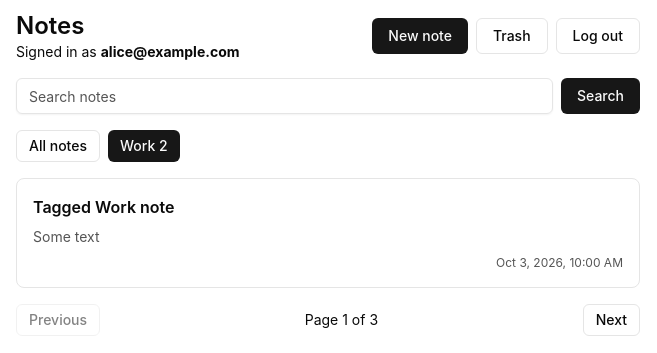
Test: tag filter › Clearing the filter
This screenshot has width=657, height=353.
Click the button "Work 2" at {"x": 144, "y": 146}, box [108,130,180,162]
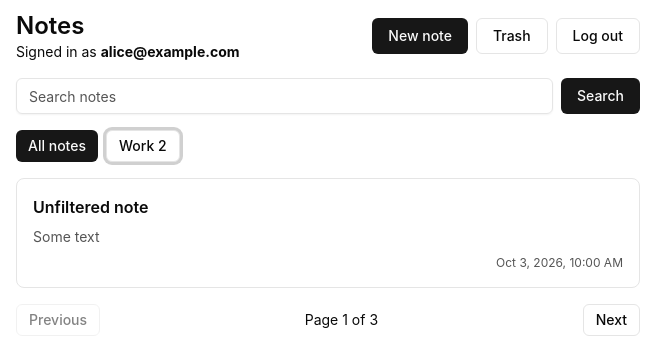
Check: the link "Unfiltered note" is shown, box [33,197,148,217]
